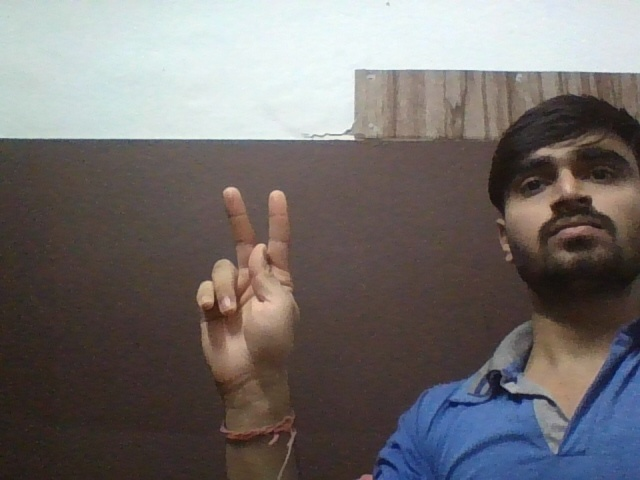K: (177, 179, 308, 389)
